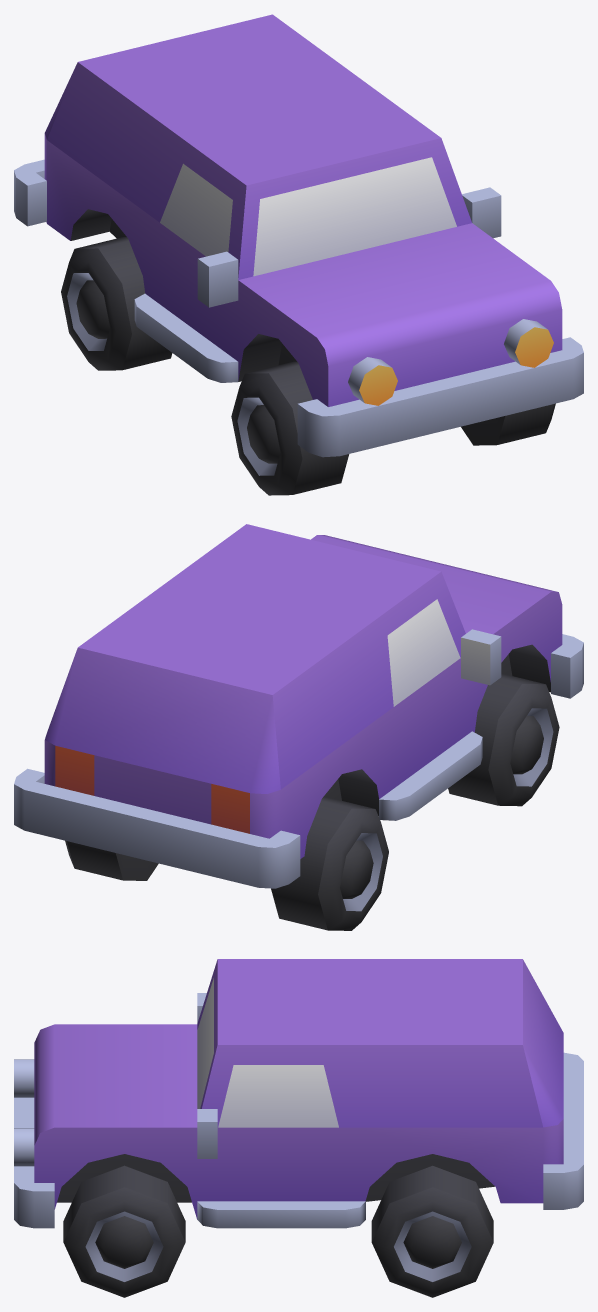
File: vehicle-truck-purple.fbx
3 renders of one model, top to bottom at view 1: azimuth 30°, elevation 25°; view 2: azimuth 150°, elevation 25°; view 3: azimuth 270°, elevation 25°, orthographic. The views are drawn at different scales.
Parts seen in each view (by area): view 1: body, wheel-back-right, wheel-front-right, wheel-front-left; view 2: body, wheel-back-right, wheel-front-right, wheel-back-left; view 3: body, wheel-front-left, wheel-back-left.
Boxes of the visible parts, x1,y1,x2,y2 form: body: (14, 14, 583, 457); wheel-back-right: (61, 237, 172, 370); wheel-front-right: (231, 361, 349, 495); wheel-front-left: (461, 403, 555, 445); body: (14, 524, 583, 888); wheel-back-right: (271, 797, 388, 930); wheel-front-right: (448, 673, 559, 806); wheel-back-left: (65, 840, 158, 880); body: (14, 959, 583, 1228); wheel-front-left: (63, 1165, 185, 1297); wheel-back-left: (371, 1165, 493, 1297).
Bounding box in the file's own units: 1.5 × 1.3 × 2.8.
